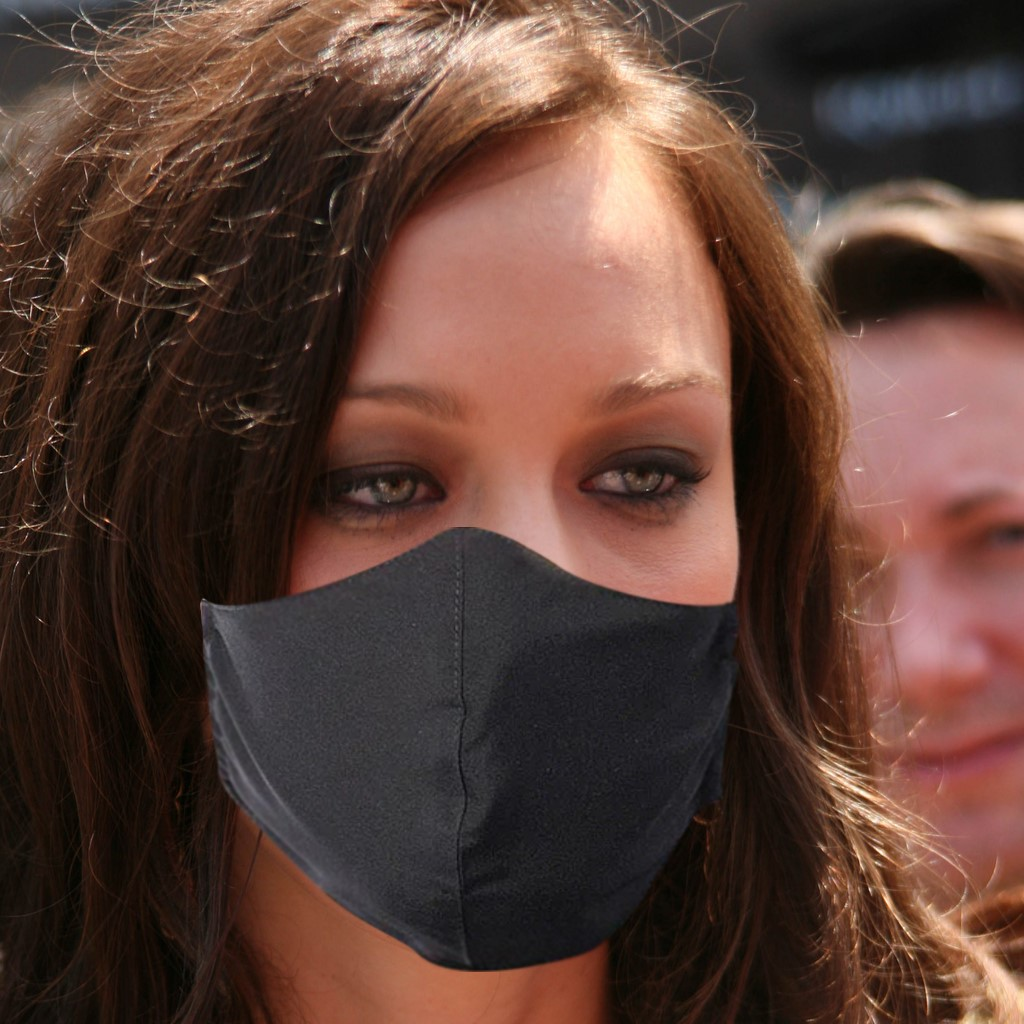con_mascara: (138, 21, 777, 968)
